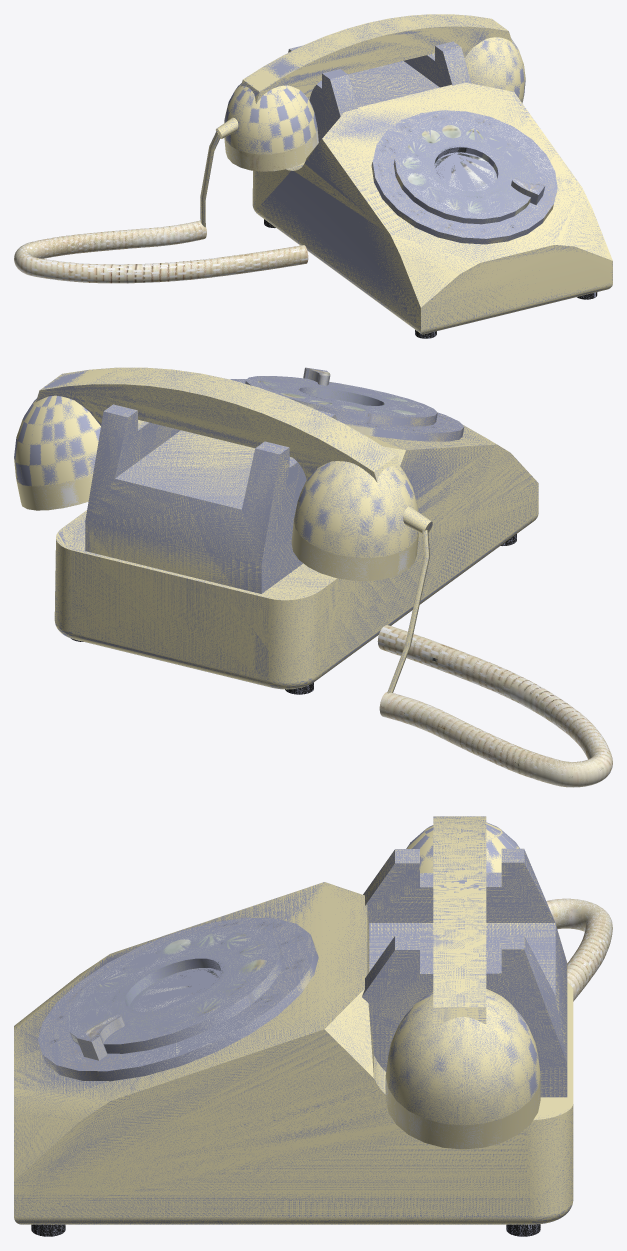
File: prop_telephone_70s.fbx
3 views of the same model, one above another, from view 1: azimuth 30°, elevation 25°; view 2: azimuth 150°, elevation 25°; view 3: azimuth 270°, elevation 25° (orthographic). The views are drawn at different scales.
Visible parts, largest first — view 1: Group9, Group3, Group7, Group4, Group6, Group1, Group8, Group2; view 2: Group9, Group1, Group7, Group4, Group6, Group8, Group3, Group2; view 3: Group9, Group3, Group1, Group8, Group7, Group4, Group6.
Boxes of the visible parts, left/top/right/bottom form: Group9: left=252, top=82, right=612, bottom=334; Group3: left=371, top=110, right=557, bottom=244; Group7: left=216, top=14, right=512, bottom=138; Group4: left=14, top=220, right=308, bottom=283; Group6: left=224, top=83, right=318, bottom=171; Group1: left=264, top=41, right=597, bottom=338; Group8: left=464, top=37, right=525, bottom=103; Group2: left=200, top=132, right=220, bottom=227; Group9: left=54, top=424, right=538, bottom=689; Group1: left=71, top=404, right=516, bottom=694; Group7: left=36, top=367, right=432, bottom=533; Group4: left=377, top=625, right=612, bottom=787; Group6: left=291, top=461, right=418, bottom=580; Group8: left=14, top=395, right=100, bottom=510; Group3: left=230, top=367, right=464, bottom=441; Group2: left=387, top=530, right=429, bottom=693; Group9: left=14, top=882, right=573, bottom=1224; Group3: left=38, top=917, right=318, bottom=1081; Group1: left=31, top=848, right=567, bottom=1236; Group8: left=385, top=989, right=540, bottom=1149; Group7: left=433, top=816, right=486, bottom=1030; Group4: left=546, top=898, right=612, bottom=1001; Group6: left=406, top=822, right=519, bottom=873.
Bounding box in the file's own units: 0.3145 × 0.1224 × 0.2218.
